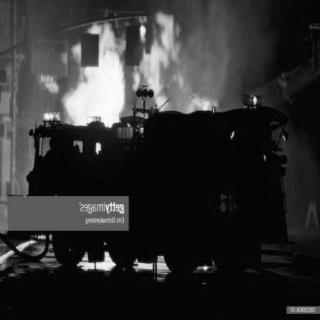Fire: (185, 90, 222, 112)
